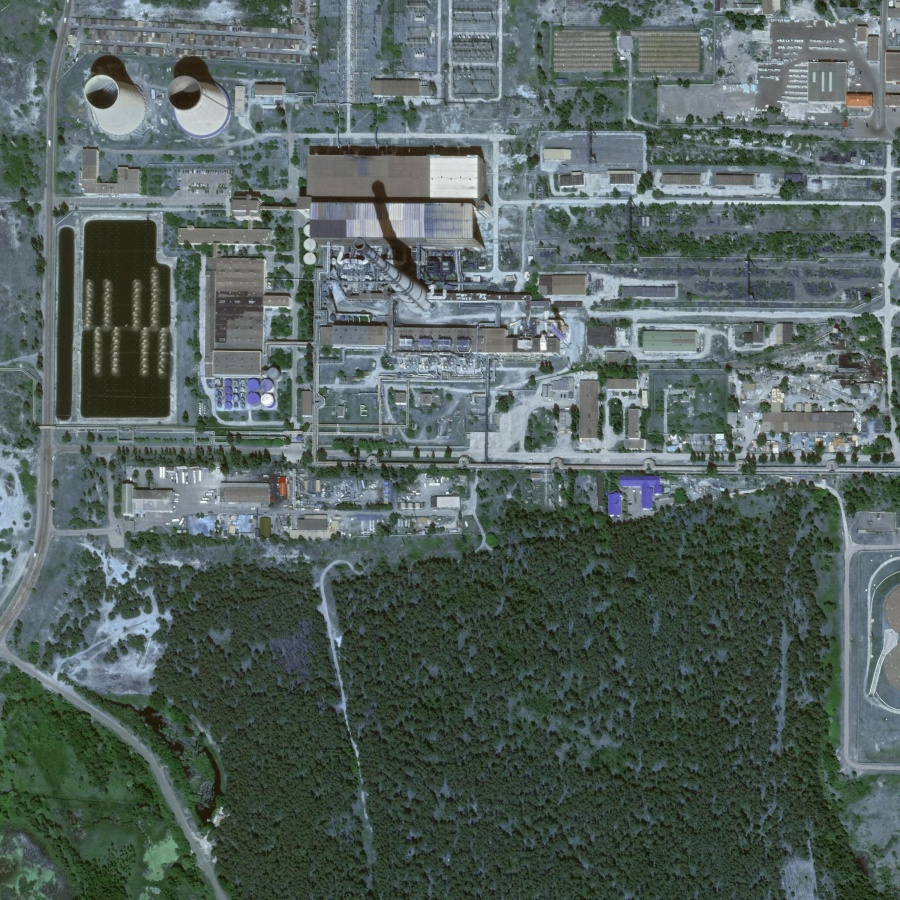PowerPlant: (45, 32, 498, 432)
